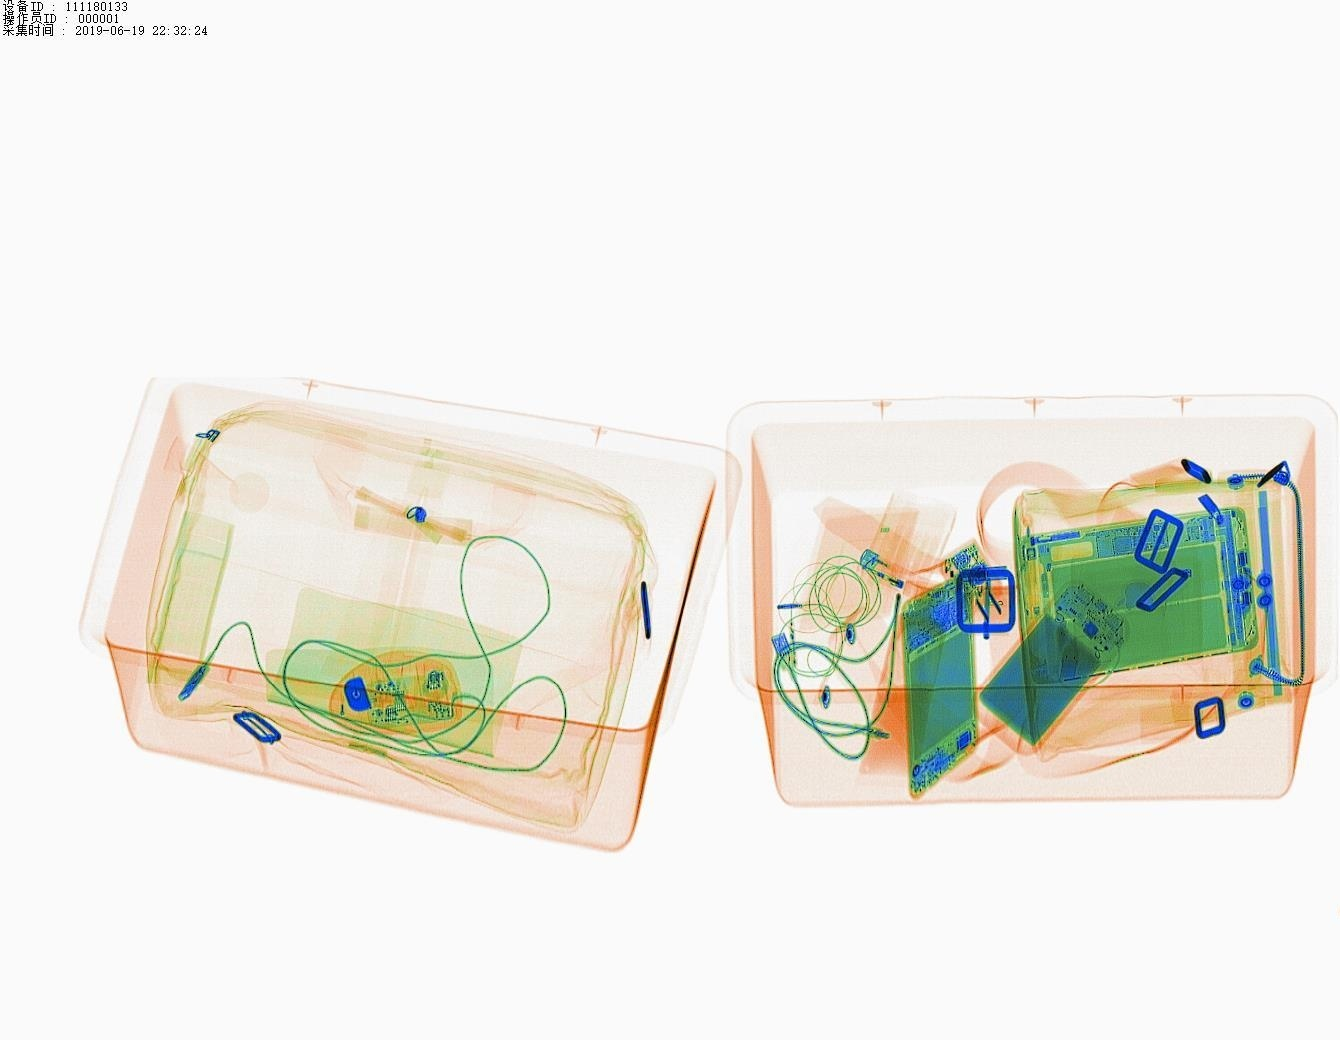NonmetallicFire: (852, 545, 927, 605)
